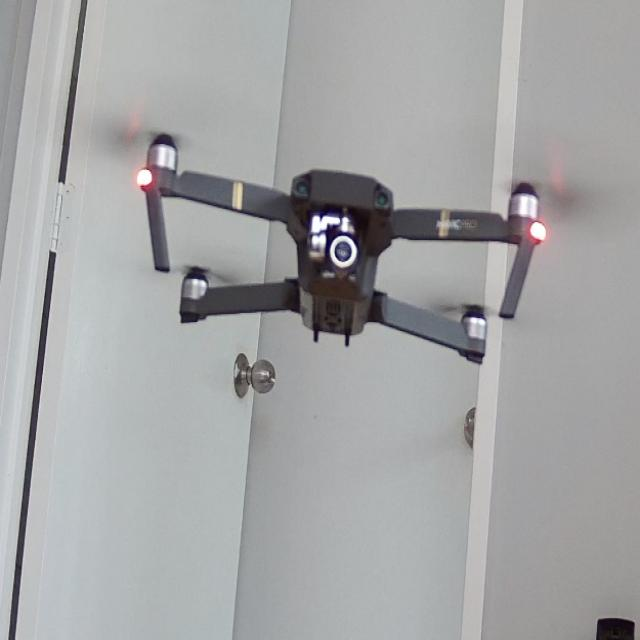drone: (55, 77, 597, 385)
